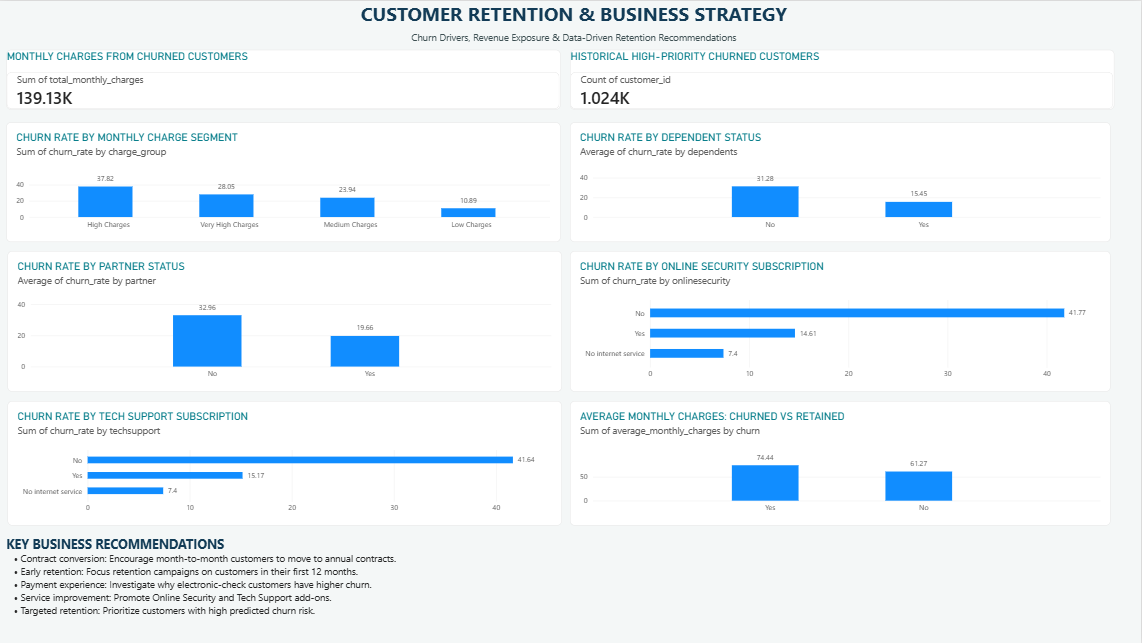

The page's visual inventory and layout, read from the dashboard file:
{"tool":"powerbi","page":{"name":"Retention Strategy","canvas":[1920,1080],"ordinal":2},"visuals":[{"type":"textbox","box":[10.3,0,1910.1,51.5],"z":0},{"type":"textbox","box":[10.3,51.5,1910.1,30.9],"z":1},{"type":"cardVisual","title":"MONTHLY CHARGES FROM CHURNED CUSTOMERS","fields":{"Data":["Sum(telecom_churn_analytics customer_value_by_churn.total_monthly_charges)"]},"box":[10.3,82.3,932.4,100.9],"z":2},{"type":"clusteredColumnChart","title":"AVERAGE MONTHLY CHARGES: CHURNED VS RETAINED","fields":{"Category":["telecom_churn_analytics customer_value_by_churn.churn"],"Y":["Sum(telecom_churn_analytics customer_value_by_churn.average_monthly_charges)"]},"box":[959.2,673.1,909.8,209.9],"z":3},{"type":"clusteredBarChart","title":"CHURN RATE BY ONLINE SECURITY SUBSCRIPTION","fields":{"Category":["telecom_churn_analytics churn_by_online_security.onlinesecurity"],"Y":["Sum(telecom_churn_analytics churn_by_online_security.churn_rate)"]},"box":[959.2,419.9,909.8,236.7],"z":4},{"type":"clusteredBarChart","title":"CHURN RATE BY TECH SUPPORT SUBSCRIPTION","fields":{"Category":["telecom_churn_analytics churn_by_tech_support.techsupport"],"Y":["Sum(telecom_churn_analytics churn_by_tech_support.churn_rate)"]},"box":[12.3,673.1,932.4,209.9],"z":5},{"type":"cardVisual","title":"HISTORICAL HIGH-PRIORITY CHURNED CUSTOMERS","fields":{"Data":["Count(telecom_churn_analytics high_priority_churn_segment.customer_id)"]},"box":[959.2,82.3,916,100.9],"z":6},{"type":"clusteredColumnChart","title":"CHURN RATE BY MONTHLY CHARGE SEGMENT","fields":{"Category":["telecom_churn_analytics churn_by_monthly_charges.charge_group"],"Y":["Sum(telecom_churn_analytics churn_by_monthly_charges.churn_rate)"]},"box":[10.3,203.8,932.4,201.7],"z":7},{"type":"clusteredColumnChart","title":"CHURN RATE BY DEPENDENT STATUS","fields":{"Category":["churn_by_dependents.dependents"],"Y":["Avg(churn_by_dependents.churn_rate)"]},"box":[959.2,203.8,909.8,201.7],"z":8},{"type":"clusteredColumnChart","title":"CHURN RATE BY PARTNER STATUS","fields":{"Category":["churn_by_partner.partner"],"Y":["Avg(churn_by_partner.churn_rate)"]},"box":[12.3,419.9,932.4,236.7],"z":9},{"type":"textbox","box":[10.3,897.4,1910.1,183.2],"z":10}]}

Visuals, with their boxes in screenshot pixels (x1, y1, x2, y2), scaled from the page's 1920x1080 canvas onto the 1142x643 screenshot:
textbox: {"left": 6, "top": 0, "right": 1141, "bottom": 31}
textbox: {"left": 6, "top": 31, "right": 1141, "bottom": 49}
"MONTHLY CHARGES FROM CHURNED CUSTOMERS" cardVisual: {"left": 6, "top": 49, "right": 561, "bottom": 109}
"AVERAGE MONTHLY CHARGES: CHURNED VS RETAINED" clusteredColumnChart: {"left": 571, "top": 401, "right": 1112, "bottom": 526}
"CHURN RATE BY ONLINE SECURITY SUBSCRIPTION" clusteredBarChart: {"left": 571, "top": 250, "right": 1112, "bottom": 391}
"CHURN RATE BY TECH SUPPORT SUBSCRIPTION" clusteredBarChart: {"left": 7, "top": 401, "right": 562, "bottom": 526}
"HISTORICAL HIGH-PRIORITY CHURNED CUSTOMERS" cardVisual: {"left": 571, "top": 49, "right": 1115, "bottom": 109}
"CHURN RATE BY MONTHLY CHARGE SEGMENT" clusteredColumnChart: {"left": 6, "top": 121, "right": 561, "bottom": 241}
"CHURN RATE BY DEPENDENT STATUS" clusteredColumnChart: {"left": 571, "top": 121, "right": 1112, "bottom": 241}
"CHURN RATE BY PARTNER STATUS" clusteredColumnChart: {"left": 7, "top": 250, "right": 562, "bottom": 391}
textbox: {"left": 6, "top": 534, "right": 1141, "bottom": 642}
